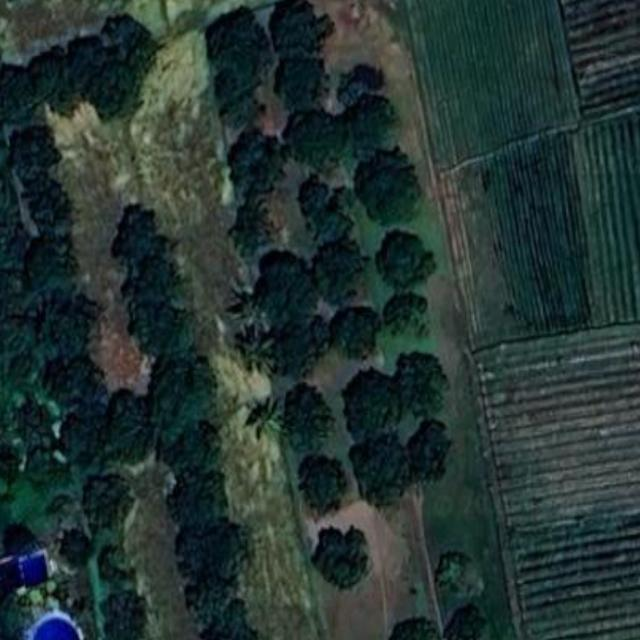Tree: (69, 38, 165, 118), (151, 355, 222, 453), (189, 512, 254, 619), (130, 250, 192, 359), (208, 7, 267, 114), (1, 49, 70, 122), (251, 242, 317, 317), (358, 152, 424, 225), (353, 428, 412, 509), (172, 457, 230, 535), (262, 0, 334, 62), (341, 365, 400, 438), (340, 94, 400, 164), (394, 348, 454, 416), (374, 225, 436, 290), (228, 123, 288, 189), (315, 524, 375, 590), (283, 101, 342, 167), (300, 169, 358, 235), (31, 170, 80, 247), (295, 445, 348, 516), (283, 380, 333, 453), (316, 234, 367, 305), (105, 383, 153, 457), (276, 309, 330, 374), (85, 471, 139, 535), (410, 408, 452, 487), (331, 300, 383, 362), (274, 54, 329, 110), (14, 116, 62, 179), (100, 12, 146, 66), (117, 204, 161, 260), (230, 194, 275, 247), (446, 600, 495, 640), (238, 326, 276, 370), (388, 288, 428, 329), (256, 396, 288, 439), (391, 615, 437, 640)
